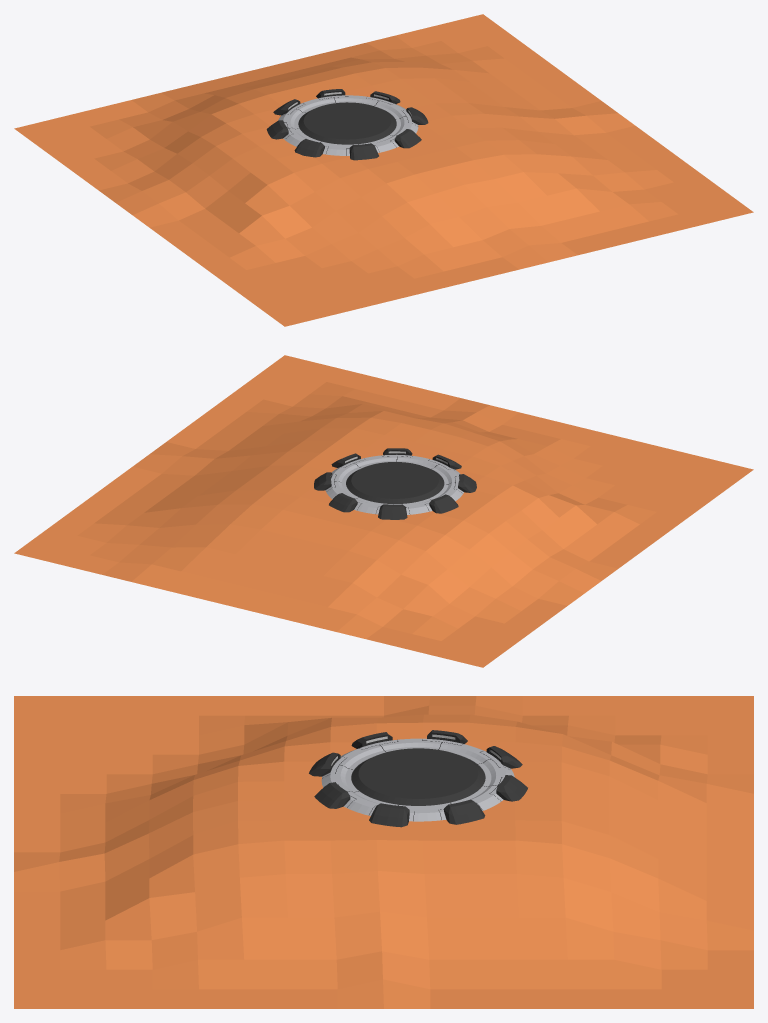
File: towers_spawn.fbx
3 views of the same model, one above another, from view 1: azimuth 30°, elevation 25°; view 2: azimuth 150°, elevation 25°; view 3: azimuth 270°, elevation 25° (orthographic). The views are drawn at different scales.
Visible parts, largest first — view 1: Plane, Cylinder, Cylinder.001; view 2: Plane, Cylinder, Cylinder.001; view 3: Plane, Cylinder, Cylinder.001.
Boxes of the visible parts, bbox=[...] form: Plane: bbox=[14, 14, 753, 326]; Cylinder: bbox=[266, 89, 428, 160]; Cylinder.001: bbox=[298, 102, 396, 144]; Plane: bbox=[14, 355, 753, 667]; Cylinder: bbox=[314, 448, 476, 519]; Cylinder.001: bbox=[346, 462, 444, 503]; Plane: bbox=[14, 696, 753, 1008]; Cylinder: bbox=[309, 730, 527, 827]; Cylinder.001: bbox=[351, 748, 485, 805].
Size of the model in its own units: 636 by 125 by 636.
